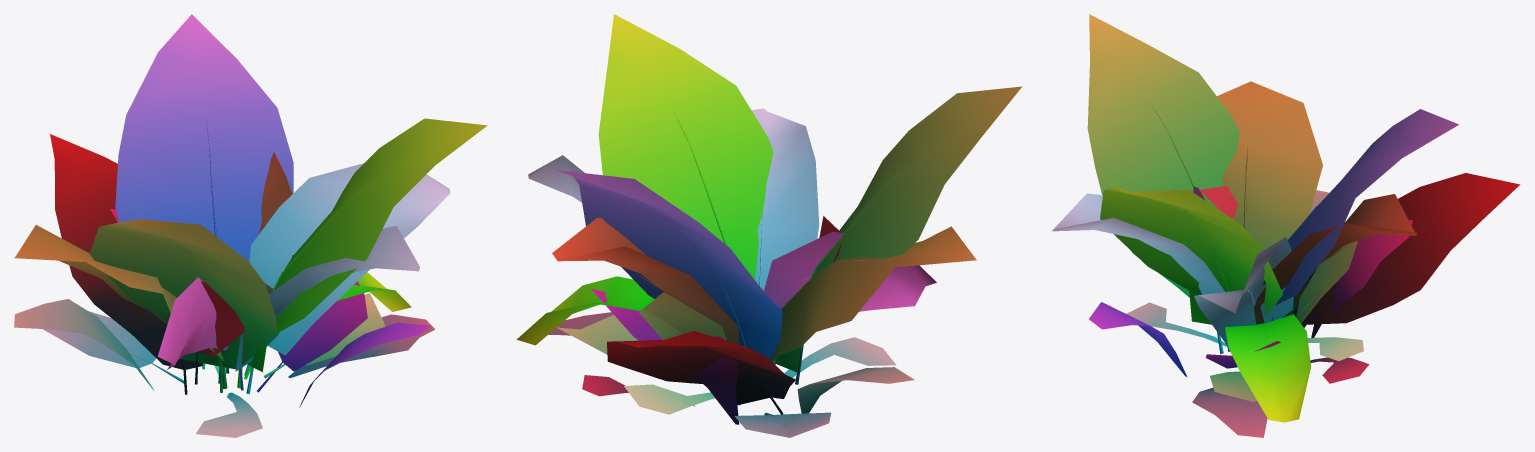
File: Lady_Fern_wdvlditia_Mid_wdvlditia_VarF_LOD1.fbx
The picture shows the model from 3 angles, left to right: view 1: azimuth 30°, elevation 25°; view 2: azimuth 150°, elevation 25°; view 3: azimuth 270°, elevation 25°; orthographic projection. The views are drawn at different scales.
Parts seen in each view (by area): view 1: _qw19_VarF_LOD4; view 2: _qw19_VarF_LOD4; view 3: _qw19_VarF_LOD4.
Part boxes in pixels (<box>): _qw19_VarF_LOD4: <box>14,14,487,437</box>; _qw19_VarF_LOD4: <box>517,14,1022,437</box>; _qw19_VarF_LOD4: <box>1052,14,1520,437</box>.
Bounding box in the file's own units: 134 × 85.86 × 133.
